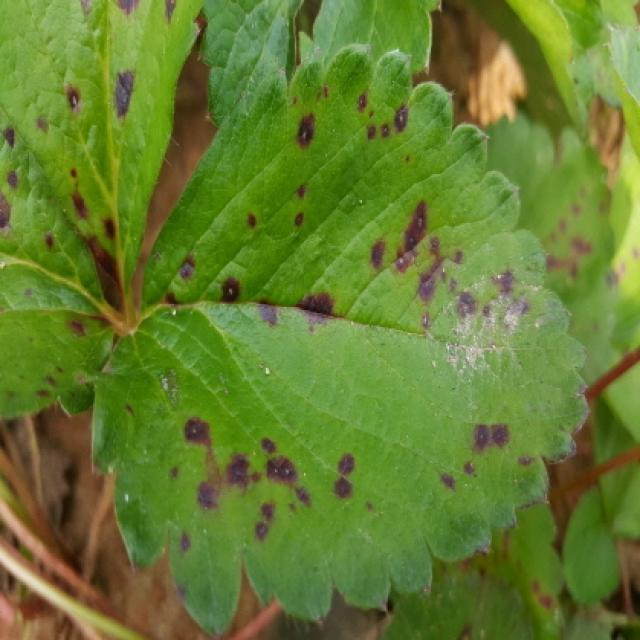Leaf Spot: (89, 42, 590, 638), (485, 111, 626, 385), (0, 104, 119, 419), (374, 552, 538, 638), (482, 505, 568, 638), (607, 153, 638, 357)
